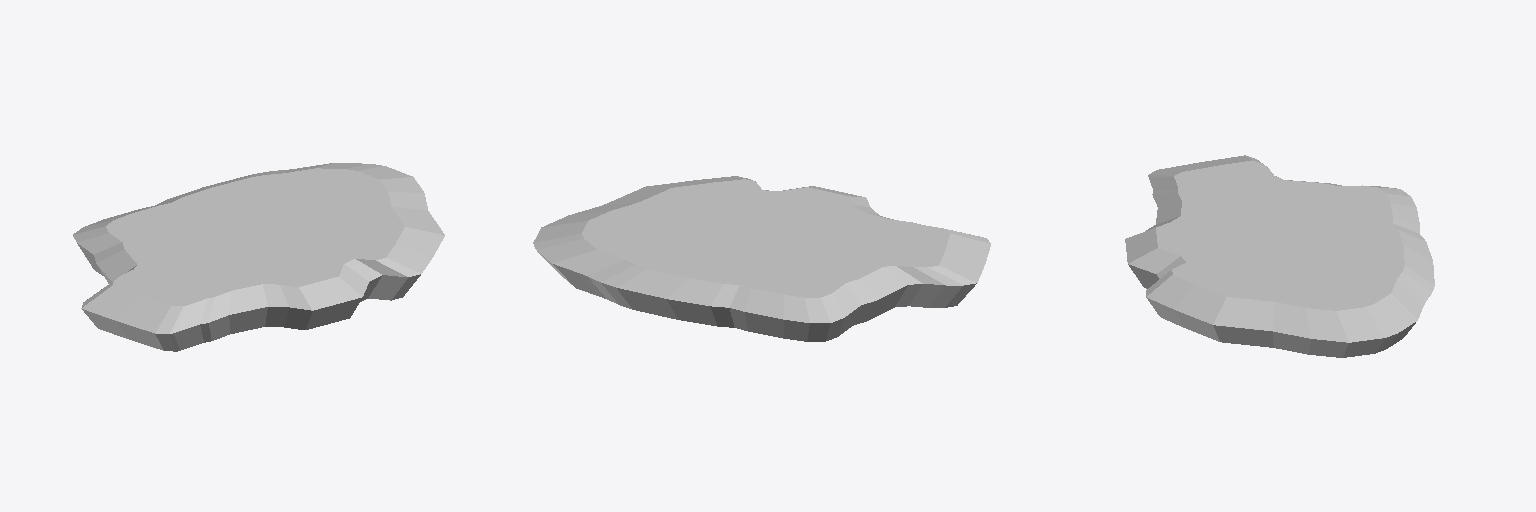
The model's file is meat.obj.
The picture shows the model from 3 angles: view 1: azimuth 30°, elevation 25°; view 2: azimuth 150°, elevation 25°; view 3: azimuth 270°, elevation 25°; orthographic projection.
Visible parts, largest first — view 1: Raw_meat_Plane.001; view 2: Raw_meat_Plane.001; view 3: Raw_meat_Plane.001.
Boxes of the visible parts, x1=… form: Raw_meat_Plane.001: x1=73, y1=163, x2=444, y2=351; Raw_meat_Plane.001: x1=533, y1=176, x2=990, y2=341; Raw_meat_Plane.001: x1=1125, y1=155, x2=1434, y2=357.
Bounding box in the file's own units: 4.89 × 0.4596 × 3.42.